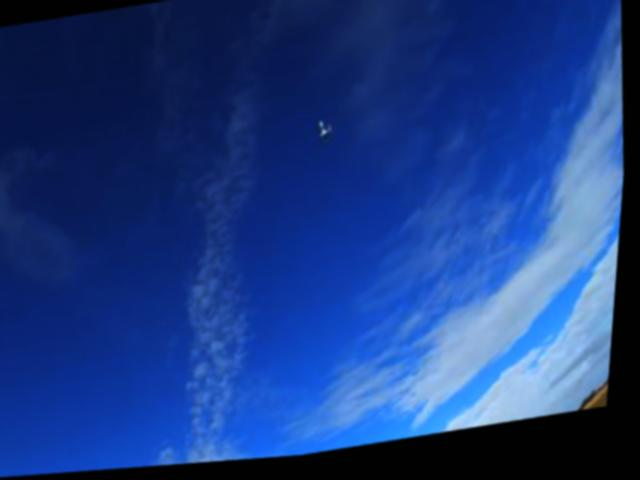uav: (310, 117, 341, 156)
